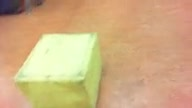cube: (13, 32, 103, 108)
